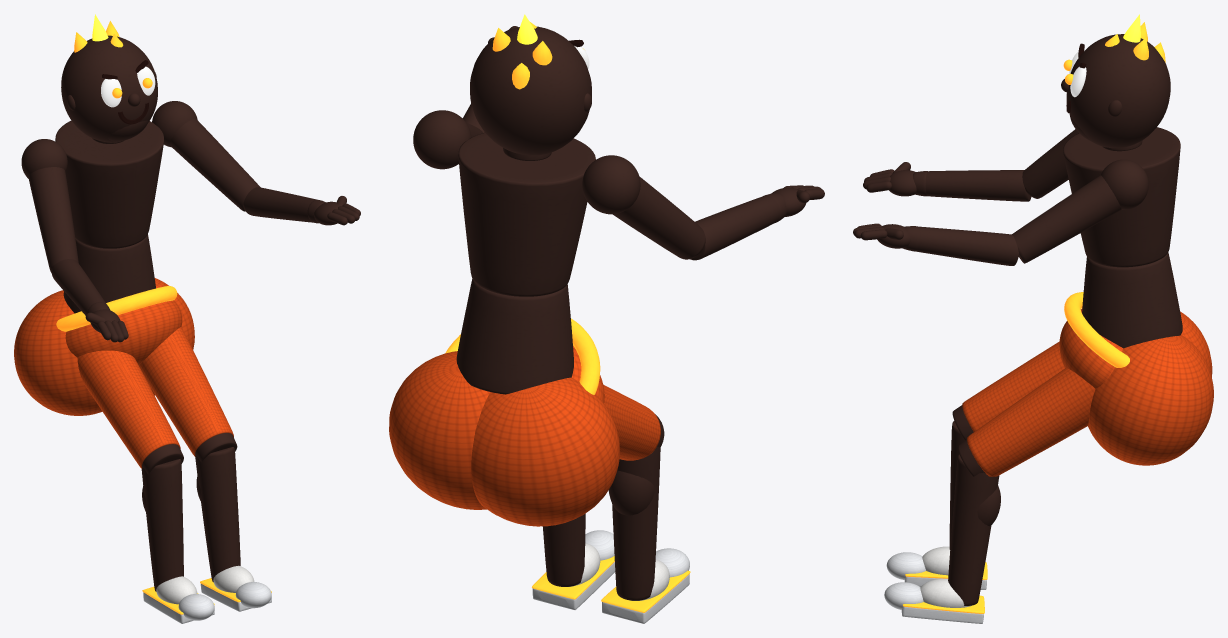
Rendered from character-lava.glb.
3 renders of one model, left to right at view 1: azimuth 30°, elevation 25°; view 2: azimuth 150°, elevation 25°; view 3: azimuth 270°, elevation 25°, orthographic. The views are drawn at different scales.
Visible parts, largest first — view 1: spine, head, thighR, kneeL, kneeR, thighL, cheekR, pelvis, shoulderL, shoulderR, elbowL, elbowR (+1 smaller); view 2: spine, cheekR, head, cheekL, kneeR, kneeL, elbowR, shoulderR, thighR, pelvis; view 3: spine, cheekL, head, kneeL, thighL, elbowR, elbowL, shoulderL, thighR, pelvis, kneeR, shoulderR (+1 smaller).
Boxes of the visible parts, <box> form: spine: <box>21,101,197,313</box>; head: <box>61,14,157,142</box>; thighR: <box>77,350,183,474</box>; kneeL: <box>195,447,271,611</box>; kneeR: <box>141,459,214,623</box>; thighL: <box>139,327,237,462</box>; cheekR: <box>14,290,102,415</box>; pelvis: <box>56,286,182,365</box>; shoulderL: <box>170,119,260,211</box>; shoulderR: <box>28,167,78,272</box>; elbowL: <box>243,187,360,225</box>; elbowR: <box>51,259,128,342</box>; spine: <box>413,110,640,394</box>; cheekR: <box>471,377,619,526</box>; head: <box>470,14,591,155</box>; cheekL: <box>389,351,489,509</box>; kneeR: <box>601,446,690,623</box>; kneeL: <box>532,513,615,609</box>; elbowR: <box>690,185,824,260</box>; shoulderR: <box>613,176,705,259</box>; thighR: <box>603,385,664,460</box>; pelvis: <box>445,318,604,402</box>; spine: <box>1063,127,1182,348</box>; cheekL: <box>1088,335,1213,465</box>; head: <box>1061,14,1170,148</box>; kneeL: <box>884,454,1000,623</box>; thighL: <box>957,368,1095,476</box>; elbowR: <box>863,162,1031,201</box>; elbowL: <box>853,223,1019,265</box>; shoulderL: <box>1012,175,1121,263</box>; thighR: <box>952,341,1064,440</box>; pelvis: <box>1059,292,1129,388</box>; kneeR: <box>886,421,987,589</box>; shoulderR: <box>1022,129,1078,198</box>.
Size of the model in its own units: 2.02 by 4.01 by 2.28.
10 materials, 8 textured.
